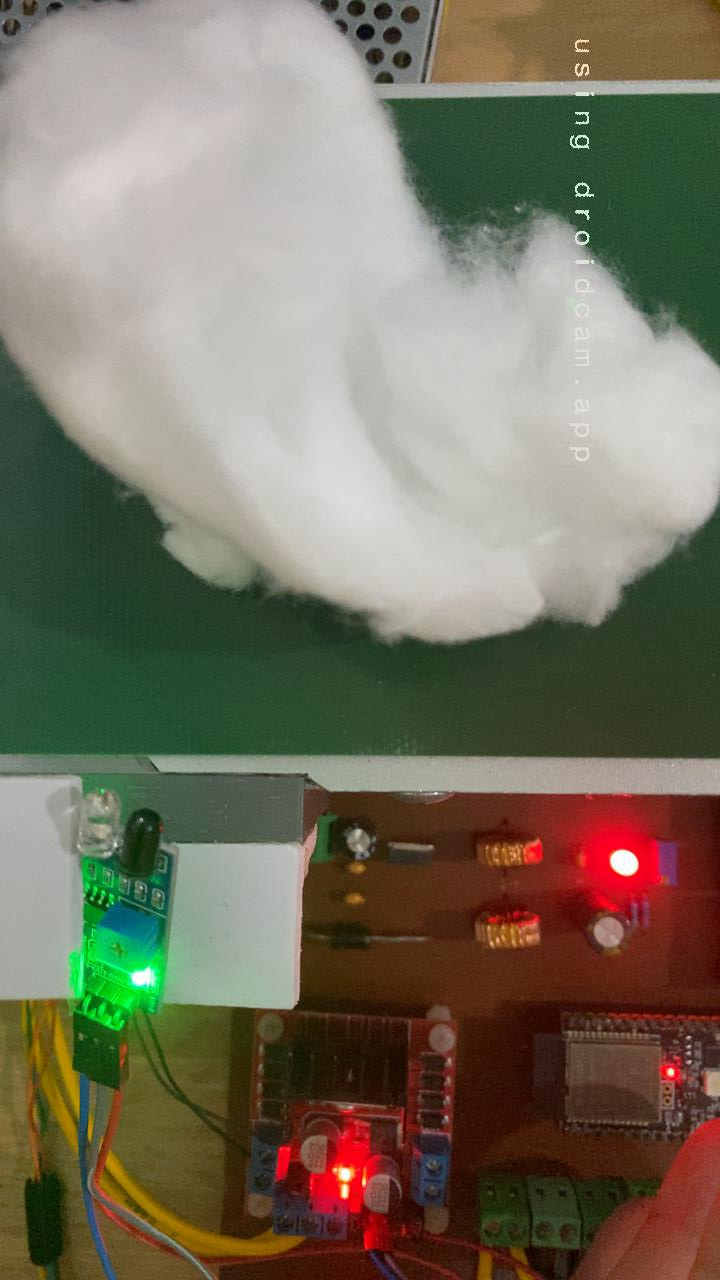cotton: (0, 97, 720, 651)
